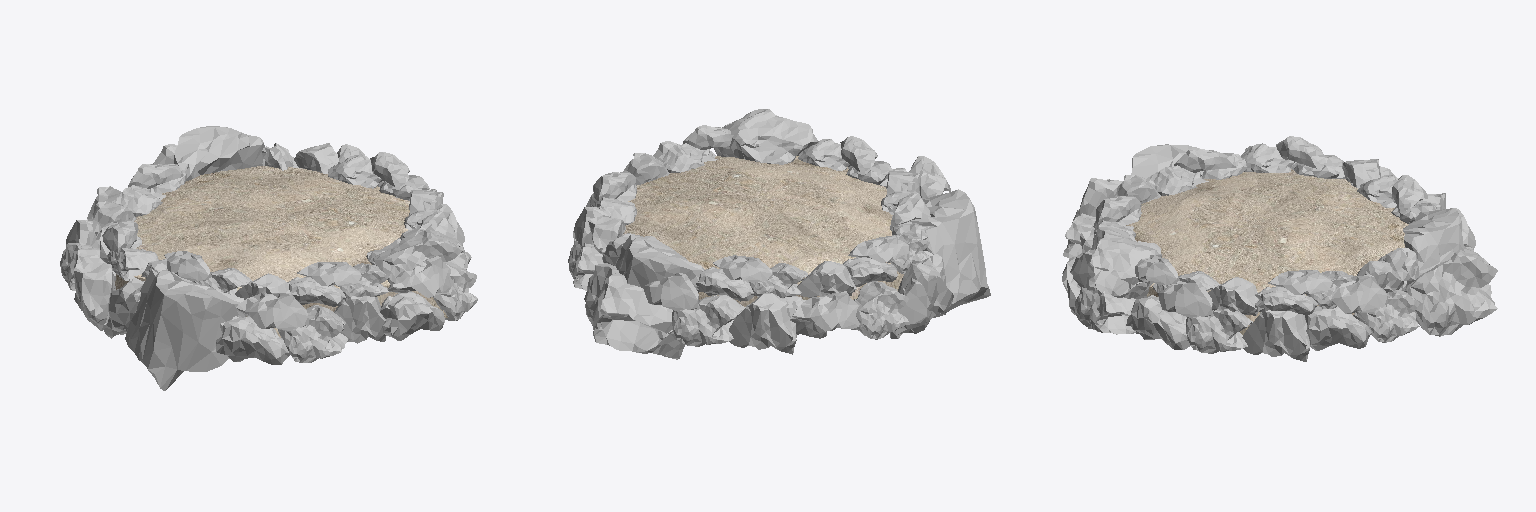
The picture shows the model from 3 angles: view 1: azimuth 30°, elevation 25°; view 2: azimuth 150°, elevation 25°; view 3: azimuth 270°, elevation 25°; orthographic projection.
Visible parts, largest first — view 1: Island, moss_rock_14.009, moss_rock_14.004, moss_rock_12.004, moss_rock_12.013, moss_rock_13.010, moss_rock_13.007, moss_rock_14.005, moss_rock_10.011, moss_rock_14.007, moss_rock_10.010, moss_rock_13.011 (+21 smaller); view 2: Island, moss_rock_12.011, moss_rock_14.009, moss_rock_12.004, moss_rock_14.006, moss_rock_14.004, moss_rock_12.008, moss_rock_14.005, moss_rock_12.007, moss_rock_10.006, moss_rock_10.007, moss_rock_14.002 (+22 smaller); view 3: Island, moss_rock_12.011, moss_rock_12.004, moss_rock_14.004, moss_rock_14.008, moss_rock_12.010, moss_rock_13.008, moss_rock_13.009, moss_rock_12.012, moss_rock_12.009, moss_rock_10.008, moss_rock_10.009 (+21 smaller).
Boxes of the visible parts, box(x1,y1,x2,y2) form: Island: box(115, 166, 447, 337); moss_rock_14.009: box(125, 269, 245, 390); moss_rock_14.004: box(174, 126, 264, 180); moss_rock_12.004: box(366, 229, 464, 292); moss_rock_12.013: box(278, 305, 347, 362); moss_rock_13.010: box(216, 316, 289, 364); moss_rock_13.007: box(380, 292, 444, 340); moss_rock_14.005: box(74, 263, 115, 330); moss_rock_10.011: box(235, 292, 308, 330); moss_rock_14.007: box(334, 296, 385, 343); moss_rock_10.010: box(388, 256, 454, 297); moss_rock_13.011: box(104, 278, 143, 338); Island: box(623, 156, 903, 306); moss_rock_12.011: box(584, 263, 684, 359); moss_rock_14.009: box(910, 189, 990, 317); moss_rock_12.004: box(714, 109, 817, 164); moss_rock_14.006: box(729, 292, 796, 354); moss_rock_14.004: box(616, 235, 704, 292); moss_rock_12.008: box(672, 295, 745, 346); moss_rock_14.005: box(898, 263, 953, 324); moss_rock_12.007: box(851, 281, 908, 339); moss_rock_10.006: box(792, 291, 859, 331); moss_rock_10.007: box(644, 273, 698, 311); moss_rock_14.002: box(797, 261, 856, 297); Island: box(1126, 169, 1408, 334); moss_rock_12.011: box(1406, 246, 1497, 336); moss_rock_12.004: box(1089, 227, 1161, 298); moss_rock_14.004: box(1403, 208, 1464, 275); moss_rock_14.008: box(1242, 310, 1309, 361); moss_rock_12.010: box(1186, 309, 1252, 353); moss_rock_13.008: box(1305, 306, 1371, 350); moss_rock_13.009: box(1126, 295, 1190, 349); moss_rock_12.012: box(1074, 287, 1138, 334); moss_rock_12.009: box(1353, 289, 1419, 342); moss_rock_10.008: box(1332, 274, 1387, 313); moss_rock_10.009: box(1152, 280, 1212, 318).
Size of the model in its own units: 56.1 by 17.94 by 59.57.
Materials: 5 (1 with a texture image).